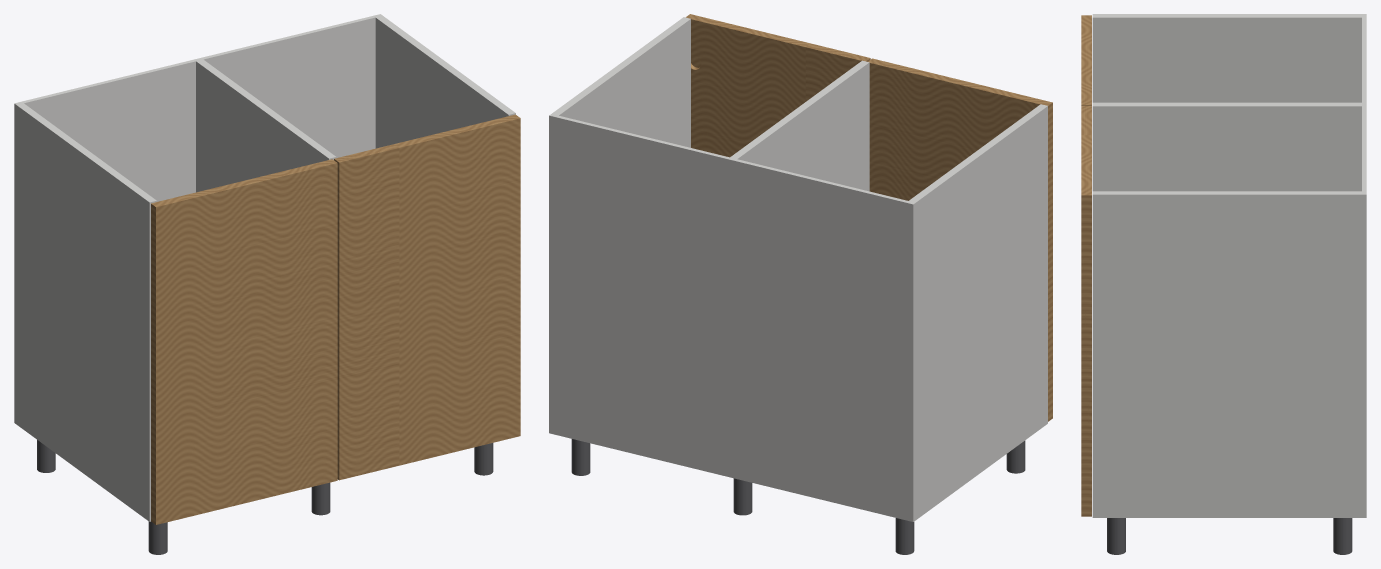
File: w900_none_default_closed.glb
3 renders of one model, left to right at view 1: azimuth 30°, elevation 25°; view 2: azimuth 150°, elevation 25°; view 3: azimuth 270°, elevation 25°, orthographic.
Visible parts, largest first — view 1: oak, white, leg; view 2: white, oak, leg; view 3: white, oak, leg.
Part boxes in pixels (bbox=[...]): oak: bbox=[151, 114, 520, 524]; white: bbox=[14, 14, 515, 521]; leg: bbox=[37, 440, 493, 554]; white: bbox=[549, 17, 1047, 521]; oak: bbox=[686, 14, 1052, 421]; leg: bbox=[571, 439, 1025, 554]; white: bbox=[1092, 14, 1366, 517]; oak: bbox=[1081, 15, 1091, 516]; leg: bbox=[1107, 518, 1352, 554].
Bounding box in the file's own units: 0.9 × 0.85 × 0.6.
Materials: 3 (1 with a texture image).
